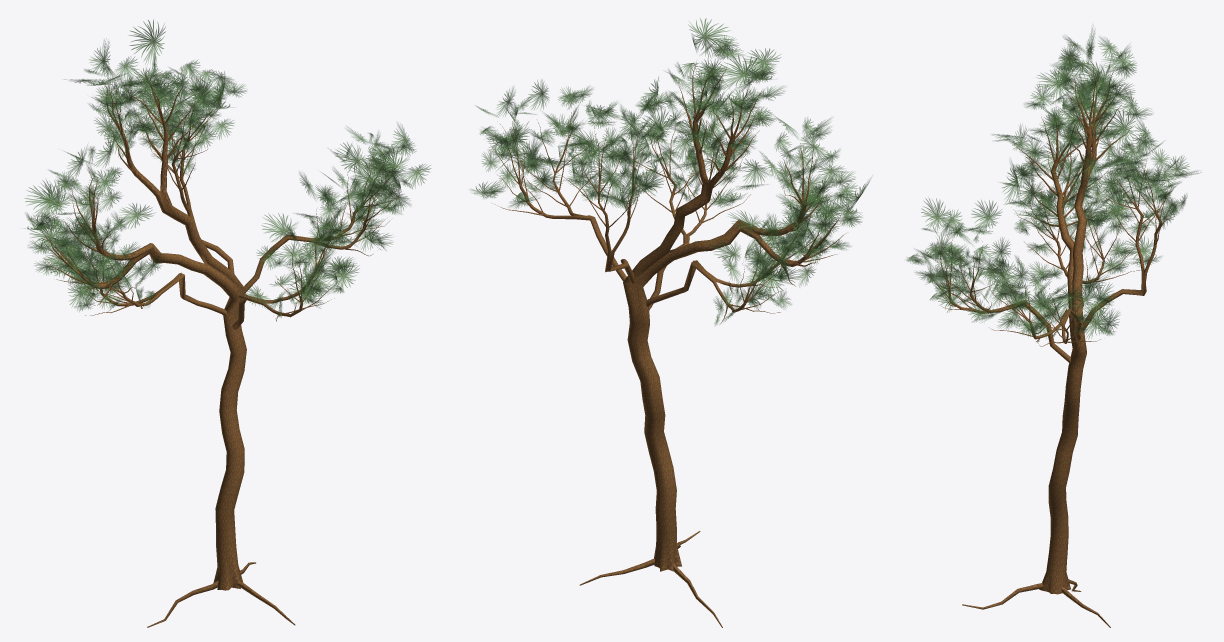
The picture shows the model from 3 angles, left to right: view 1: azimuth 30°, elevation 25°; view 2: azimuth 150°, elevation 25°; view 3: azimuth 270°, elevation 25°; orthographic projection. The views are drawn at different scales.
Parts seen in each view (by area): view 1: pine_igly_Mat_0, pine_kora_sosni_Mat_0; view 2: pine_igly_Mat_0, pine_kora_sosni_Mat_0; view 3: pine_igly_Mat_0, pine_kora_sosni_Mat_0.
Boxes of the visible parts, x1=… form: pine_igly_Mat_0: x1=24, y1=19, x2=430, y2=317; pine_kora_sosni_Mat_0: x1=42, y1=71, x2=400, y2=627; pine_igly_Mat_0: x1=470, y1=18, x2=871, y2=325; pine_kora_sosni_Mat_0: x1=492, y1=62, x2=846, y2=627; pine_igly_Mat_0: x1=906, y1=25, x2=1201, y2=340; pine_kora_sosni_Mat_0: x1=925, y1=61, x2=1178, y2=627.
Bounding box in the file's own units: 61.28 × 89.34 × 43.72.
Materials: 2 (2 with a texture image).
